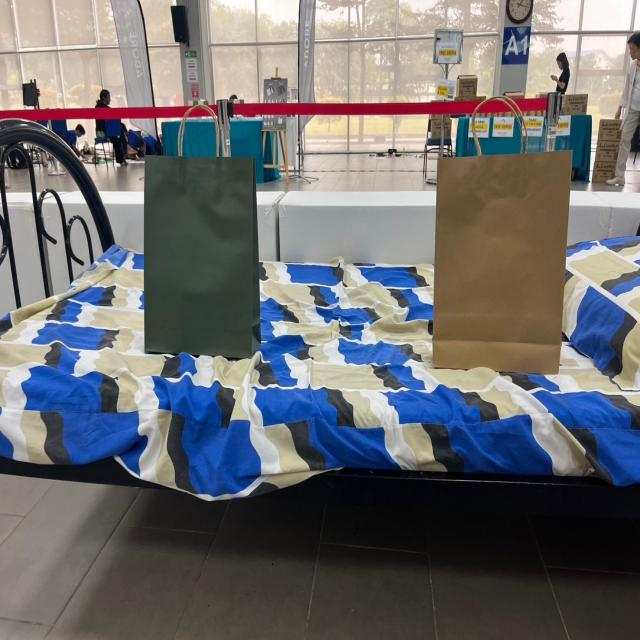bag: (439, 91, 558, 373), (152, 104, 257, 354)
